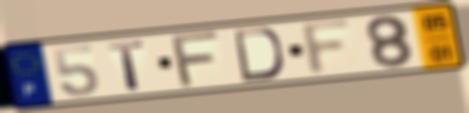5: (50, 43, 101, 98)
8: (364, 13, 415, 70)
D: (232, 26, 287, 84)
F: (299, 16, 357, 79), (170, 29, 225, 91)
T: (105, 39, 149, 92)
